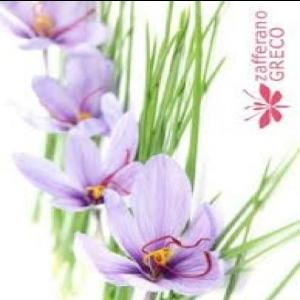Saffron: (74, 156, 222, 290), (13, 115, 134, 209), (19, 48, 122, 130), (0, 0, 115, 54)
